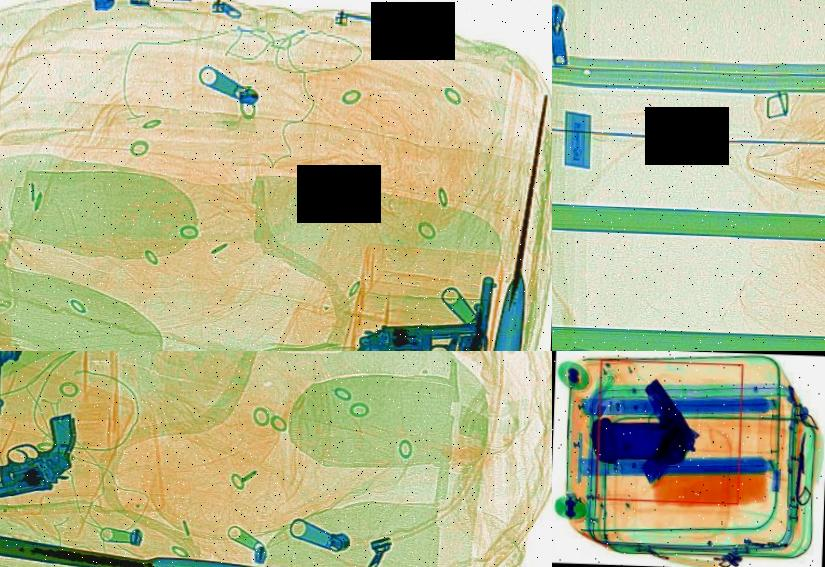Gun: (0, 405, 118, 519), (396, 268, 499, 351), (641, 376, 704, 488), (0, 351, 70, 443), (338, 313, 500, 351)
Knife: (481, 95, 552, 351), (0, 517, 324, 567)
